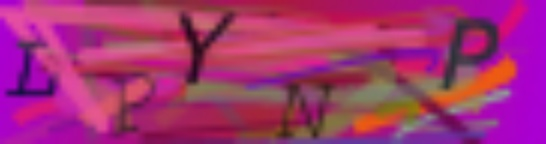L: (3, 33, 64, 100)
N: (271, 76, 343, 144)
P: (437, 13, 503, 91), (103, 68, 163, 138)
Y: (173, 9, 242, 93)
